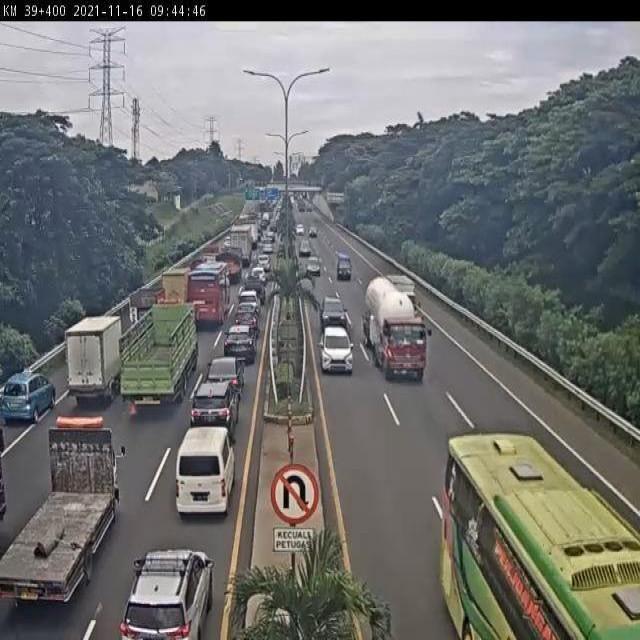big bus: (443, 430, 640, 640), (185, 264, 229, 327)
car: (172, 433, 232, 518), (188, 382, 236, 447), (0, 371, 54, 420), (204, 361, 245, 403), (319, 328, 352, 372), (221, 329, 253, 368), (321, 295, 350, 329), (232, 308, 259, 335), (236, 288, 261, 316)
truck-l-: (116, 305, 197, 415)
truck-m-: (0, 417, 128, 604), (64, 314, 123, 402), (124, 284, 167, 327), (156, 265, 189, 312)
truck-xl-: (362, 273, 433, 380)
